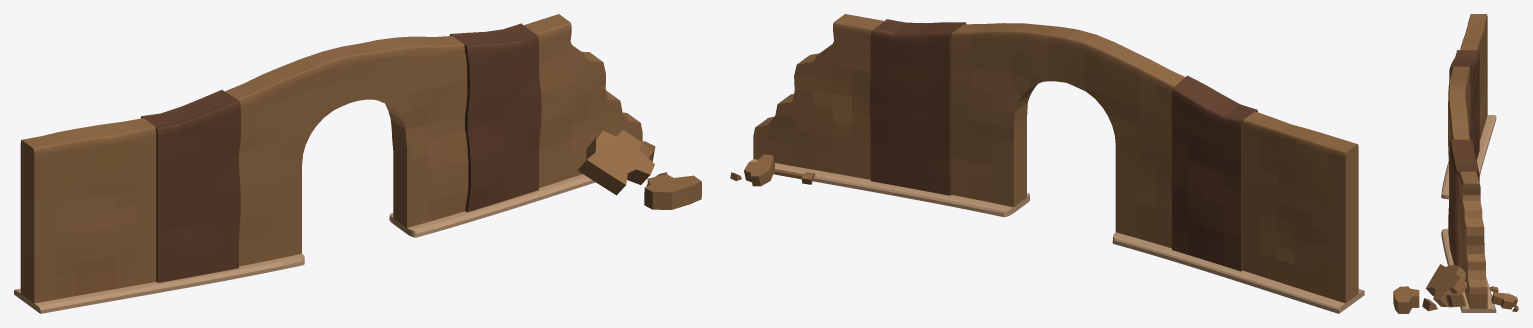
The model's file is Wall Mud-Entrance_02.fbx.
3 views of the same model, side by side, from view 1: azimuth 30°, elevation 25°; view 2: azimuth 150°, elevation 25°; view 3: azimuth 270°, elevation 25° (orthographic). The views are drawn at different scales.
Parts seen in each view (by area): view 1: Wall Mud-Entrance_02; view 2: Wall Mud-Entrance_02; view 3: Wall Mud-Entrance_02.
Part boxes in pixels (x1,y1,x2,y2): Wall Mud-Entrance_02: [14, 14, 701, 313]; Wall Mud-Entrance_02: [730, 14, 1364, 313]; Wall Mud-Entrance_02: [1393, 14, 1518, 313].
Size of the model in its own units: 1383 by 418 by 375.
